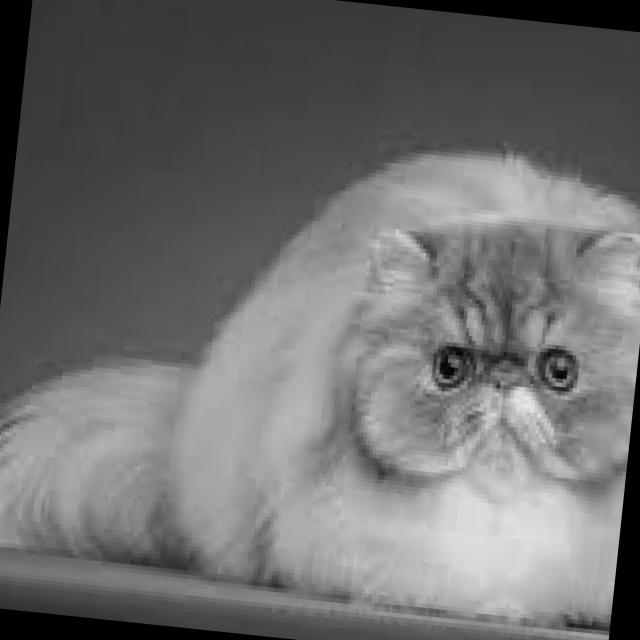iran: (382, 292, 626, 498)
